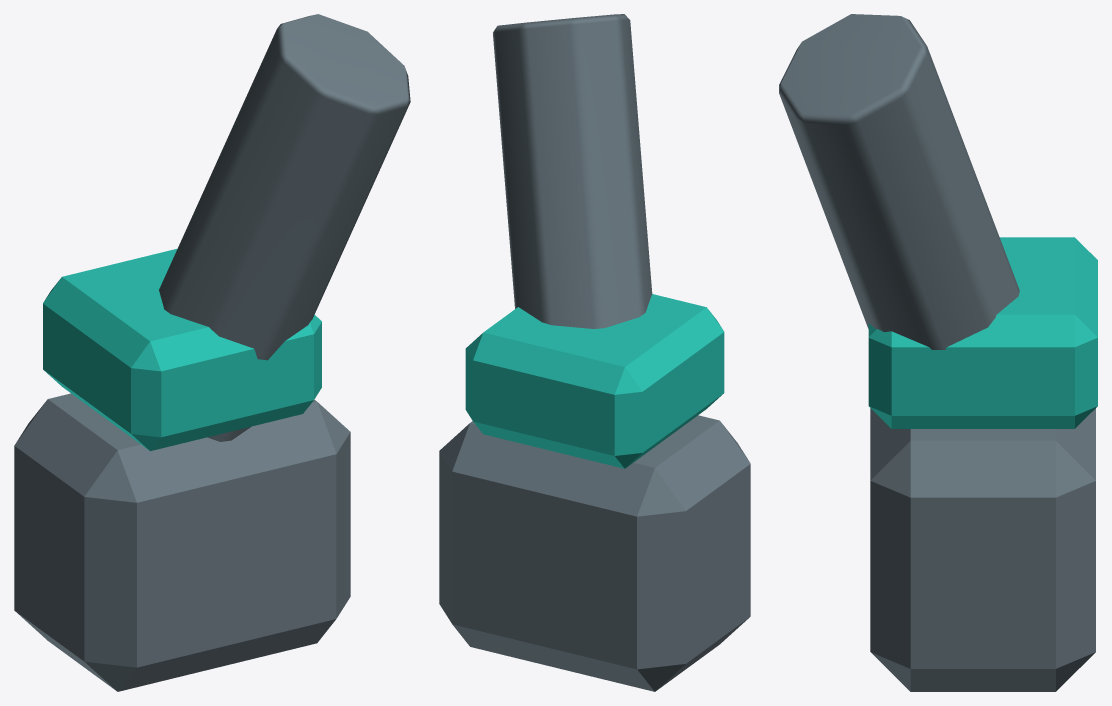
The model's file is SM_Drudge_LegRL.fbx.
3 renders of one model, left to right at view 1: azimuth 30°, elevation 25°; view 2: azimuth 150°, elevation 25°; view 3: azimuth 270°, elevation 25°, orthographic. The views are drawn at different scales.
Visible parts, largest first — view 1: SM_Drudge_LegRL; view 2: SM_Drudge_LegRL; view 3: SM_Drudge_LegRL.
Part boxes in pixels (x1,y1,x2,y2): SM_Drudge_LegRL: (14,14,410,691); SM_Drudge_LegRL: (439,14,750,691); SM_Drudge_LegRL: (779,14,1097,691).
Bounding box in the file's own units: 7.34 × 6.62 × 15.07.
